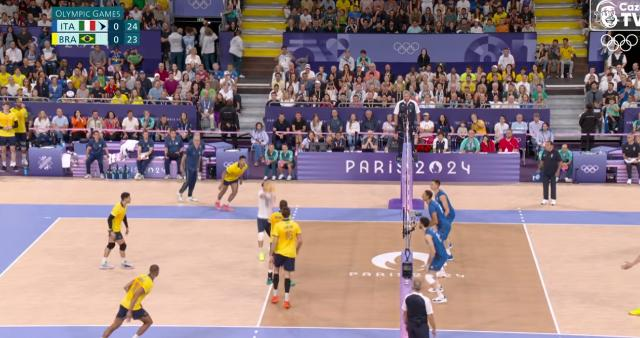Libero: (258, 182, 270, 254)
bola: (264, 183, 274, 196)
